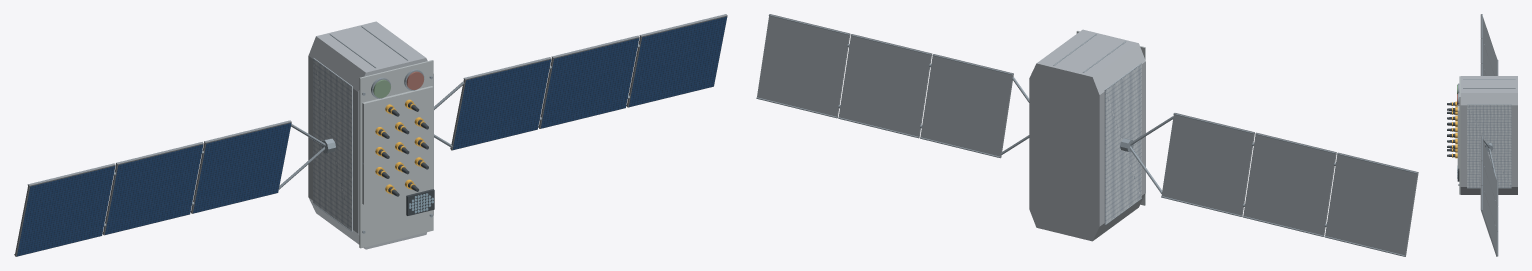
File: beidou-3s-secm.glb
3 views of the same model, side by side, from view 1: azimuth 30°, elevation 25°; view 2: azimuth 150°, elevation 25°; view 3: azimuth 270°, elevation 25° (orthographic). The views are drawn at different scales.
Parts seen in each view (by area): view 1: Solar cell strings (×6), Equipment bus, Navigation antenna mounting plate, Optical solar reflector tiles, Earth-facing equipment deck, Solar leaf backsheet (×6), Laser retroreflector mounting plate; view 2: Solar leaf backsheet (×6), Equipment bus, Optical solar reflector tiles; view 3: Optical solar reflector tiles, Equipment bus, Solar leaf backsheet (×5), Earth-facing equipment deck, Navigation antenna mounting plate, Solar wing yoke, Solar array rotary drive.
Boxes of the visible parts, x1,y1,x2,y2 form: Solar cell strings (×6): (17, 16, 726, 256); Equipment bus: (308, 21, 433, 249); Navigation antenna mounting plate: (362, 86, 433, 204); Optical solar reflector tiles: (313, 58, 352, 231); Earth-facing equipment deck: (359, 60, 433, 248); Solar leaf backsheet (×6): (15, 14, 727, 256); Laser retroreflector mounting plate: (406, 189, 434, 215); Solar leaf backsheet (×6): (757, 14, 1418, 256); Equipment bus: (1029, 29, 1145, 241); Optical solar reflector tiles: (1104, 63, 1141, 224); Optical solar reflector tiles: (1467, 104, 1511, 187); Equipment bus: (1460, 76, 1517, 194); Solar leaf backsheet (×5): (1480, 14, 1497, 256); Earth-facing equipment deck: (1459, 76, 1460, 194); Navigation antenna mounting plate: (1457, 105, 1459, 168); Solar wing yoke: (1489, 148, 1496, 179); Solar array rotary drive: (1485, 142, 1493, 151).
Bounding box in the file's own units: 9.7 × 2.37 × 1.48.
11 materials, 2 textured.
